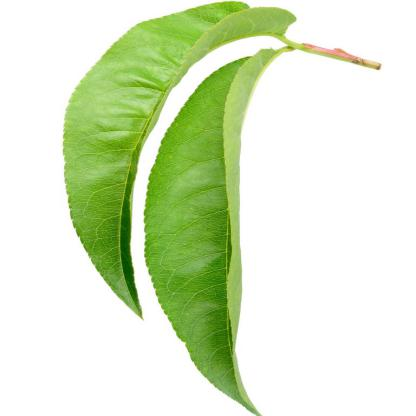Peach leaf: (48, 4, 289, 329), (135, 44, 281, 411)
